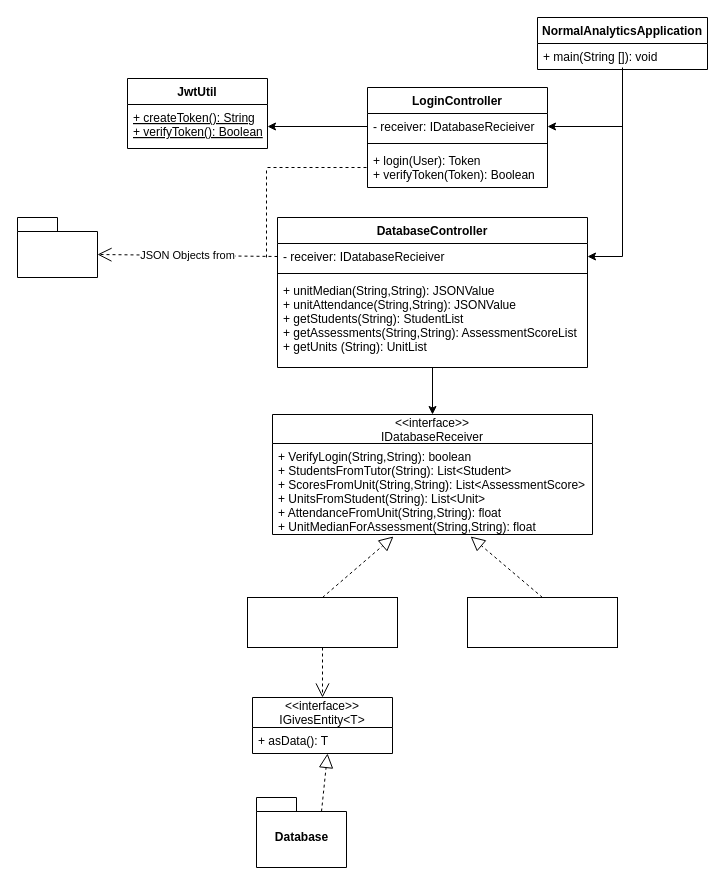
Some shapes in this 725 by 885 pixel diagram are drawn without their labels. The centre of each missing label's shape, as x and y in pixels:
"CustomDatabaseReciever" belongs at point (322, 622).
"entity" belongs at point (57, 247).
"TestingDatabaseReciever" belongs at point (542, 622).
